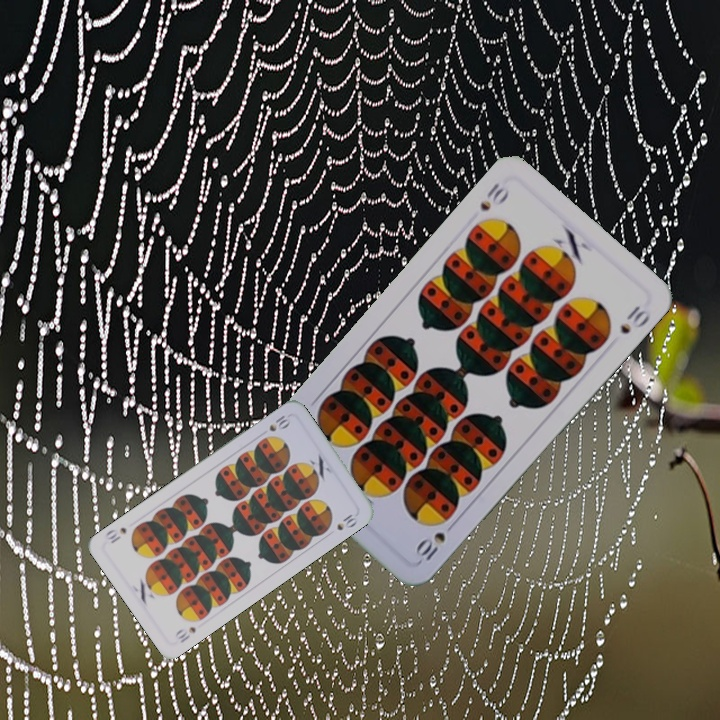S10: (411, 517, 459, 567), (475, 178, 512, 215), (171, 623, 198, 646), (265, 411, 291, 434)
